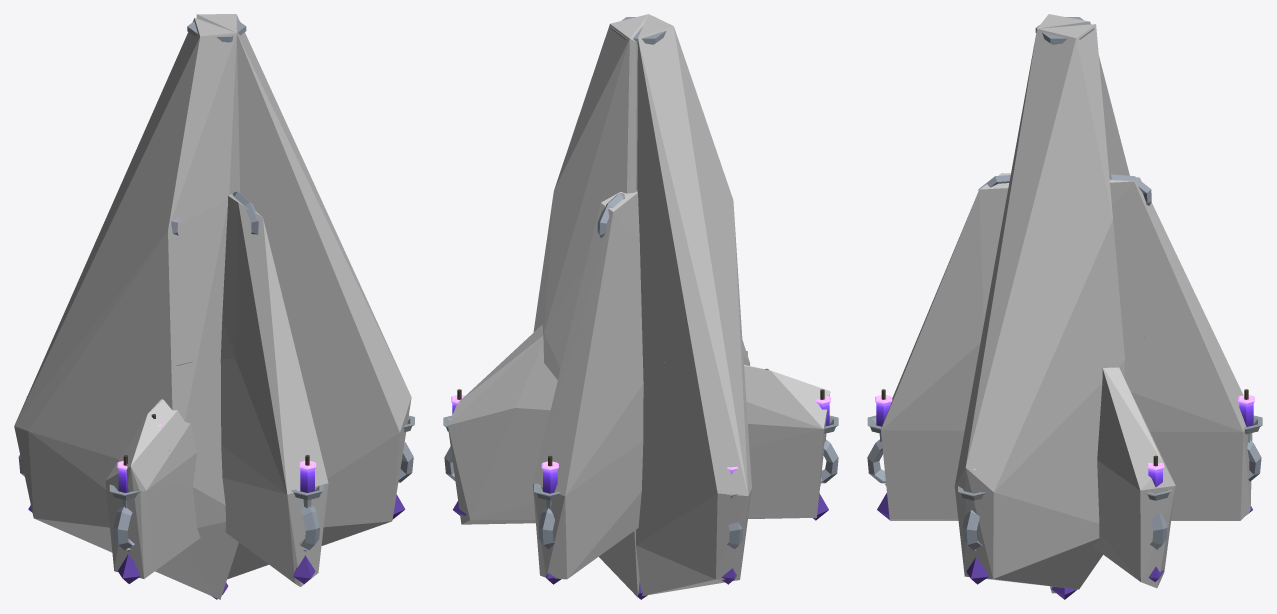
The model's file is SM_Prop_Chandelier_01.fbx.
3 renders of one model, left to right at view 1: azimuth 30°, elevation 25°; view 2: azimuth 150°, elevation 25°; view 3: azimuth 270°, elevation 25°, orthographic.
Parts seen in each view (by area): view 1: SM_Prop_Chandelier_01_ConvexHulls, SM_Prop_Chandelier_01; view 2: SM_Prop_Chandelier_01_ConvexHulls, SM_Prop_Chandelier_01; view 3: SM_Prop_Chandelier_01_ConvexHulls, SM_Prop_Chandelier_01.
Part boxes in pixels (<box>): SM_Prop_Chandelier_01_ConvexHulls: <box>14,14,411,599</box>; SM_Prop_Chandelier_01: <box>18,18,414,599</box>; SM_Prop_Chandelier_01_ConvexHulls: <box>447,14,830,597</box>; SM_Prop_Chandelier_01: <box>443,17,838,599</box>; SM_Prop_Chandelier_01_ConvexHulls: <box>881,14,1252,593</box>; SM_Prop_Chandelier_01: <box>867,17,1262,599</box>.
Bounding box in the file's own units: 155 × 173 × 277.
Materials: 2 (1 with a texture image).
